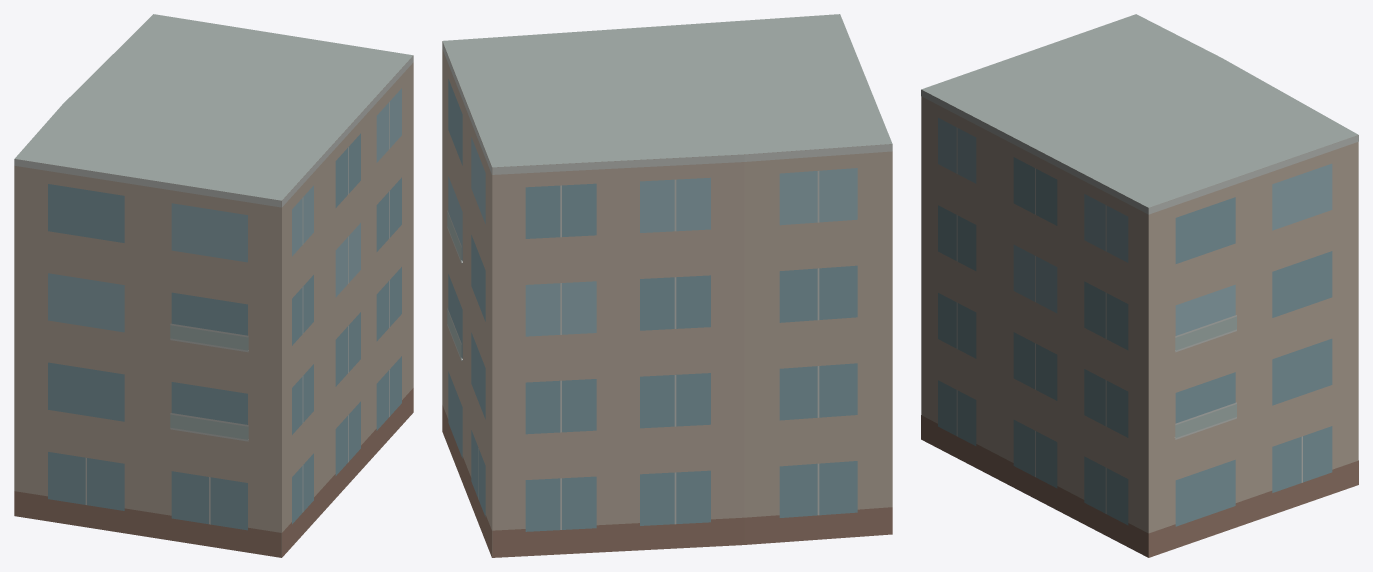
File: survey-upis-32998171.glb
The picture shows the model from 3 angles, left to right: view 1: azimuth 30°, elevation 25°; view 2: azimuth 150°, elevation 25°; view 3: azimuth 270°, elevation 25°; orthographic projection. The views are drawn at different scales.
Visible parts, largest first — view 1: survey-upis-32998171.tmp; view 2: survey-upis-32998171.tmp; view 3: survey-upis-32998171.tmp.
Boxes of the visible parts, x1=… form: survey-upis-32998171.tmp: x1=14, y1=14, x2=413, y2=557; survey-upis-32998171.tmp: x1=442, y1=14, x2=892, y2=557; survey-upis-32998171.tmp: x1=921, y1=14, x2=1358, y2=557.
Size of the model in its own units: 14.98 by 12.6 by 14.29.
